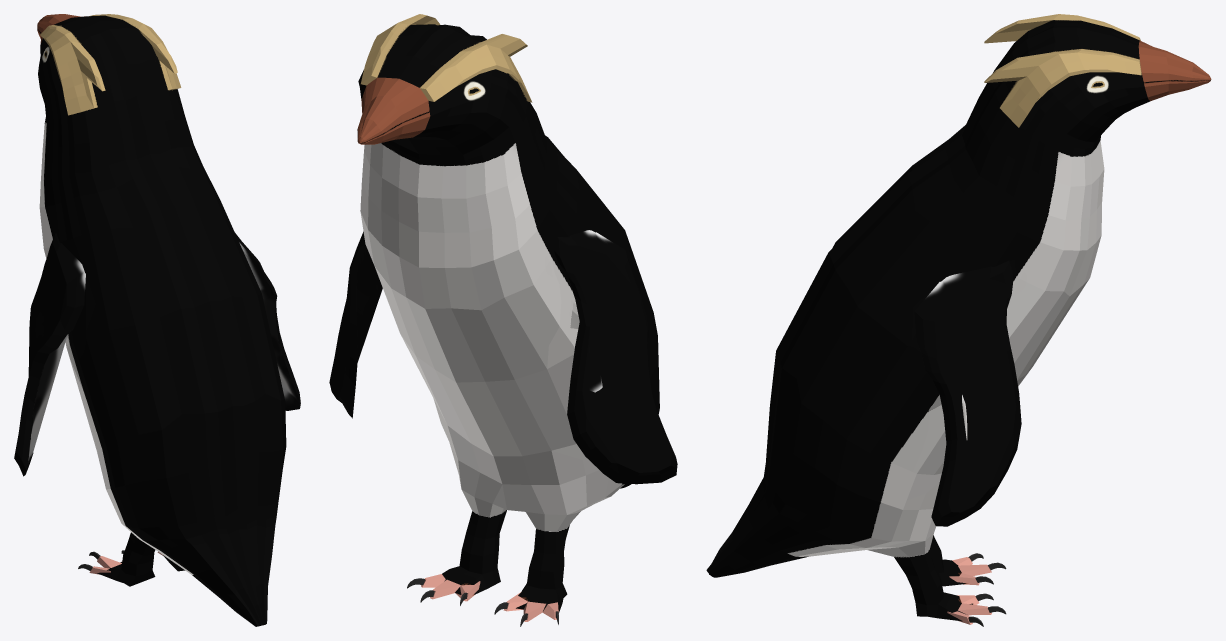
File: PinguimFiorland.fbx
The picture shows the model from 3 angles, left to right: view 1: azimuth 30°, elevation 25°; view 2: azimuth 150°, elevation 25°; view 3: azimuth 270°, elevation 25°; orthographic projection. The views are drawn at different scales.
Parts seen in each view (by area): view 1: Cylinder; view 2: Cylinder; view 3: Cylinder.
Part boxes in pixels (bbox=[...]): Cylinder: bbox=[14, 14, 300, 626]; Cylinder: bbox=[329, 14, 677, 626]; Cylinder: bbox=[706, 14, 1211, 626].
Size of the model in its own units: 136 by 233 by 188.
